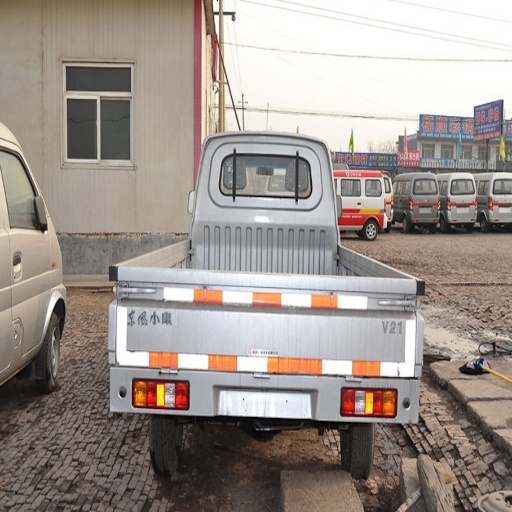tailgate: (351, 292, 408, 366)
trunk: (204, 132, 329, 227), (126, 278, 222, 357), (308, 294, 392, 366)
